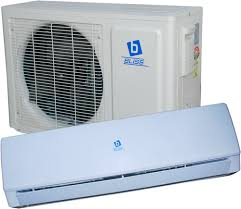ac: (1, 102, 241, 209)
